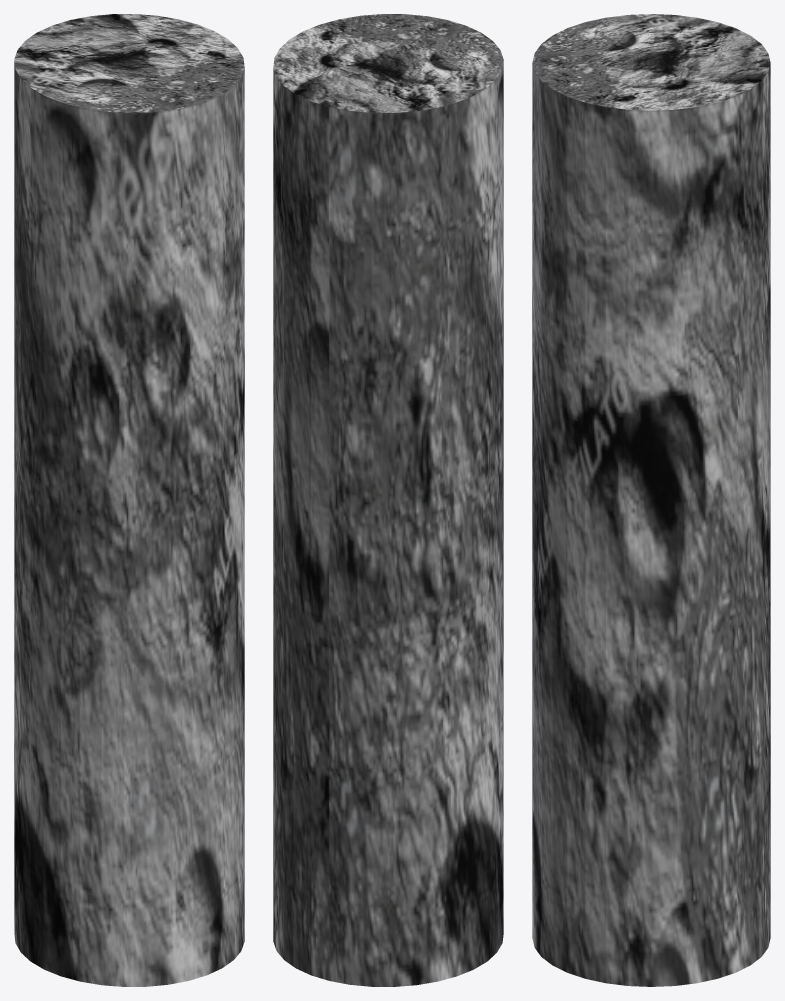
File: Baseball.obj
3 views of the same model, side by side, from view 1: azimuth 30°, elevation 25°; view 2: azimuth 150°, elevation 25°; view 3: azimuth 270°, elevation 25° (orthographic).
Parts seen in each view (by area): view 1: Planet; view 2: Planet; view 3: Planet.
Boxes of the visible parts, x1=… form: Planet: x1=14, y1=14, x2=244, y2=986; Planet: x1=273, y1=14, x2=503, y2=986; Planet: x1=532, y1=14, x2=770, y2=986.
Size of the model in its own units: 1.1 by 4.66 by 1.15.
1 material, 1 textured.
